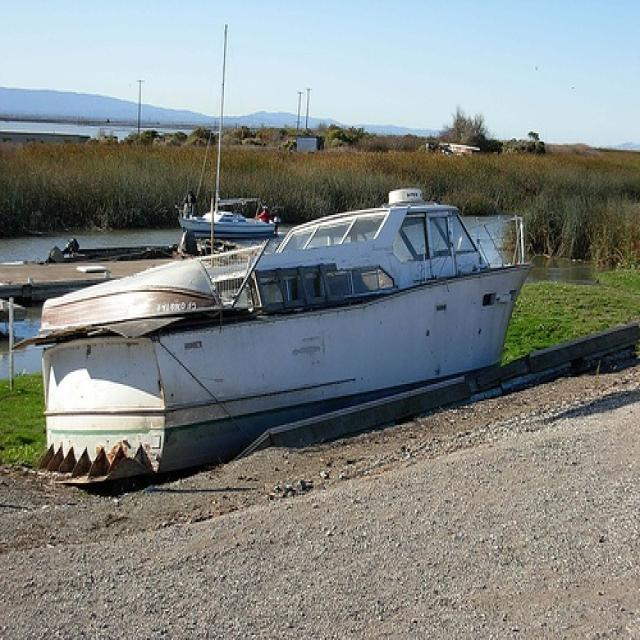boat: (14, 186, 536, 486), (177, 22, 280, 241)
